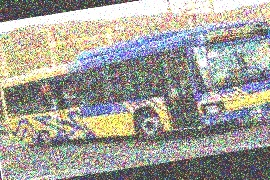bus: (0, 14, 270, 163)
